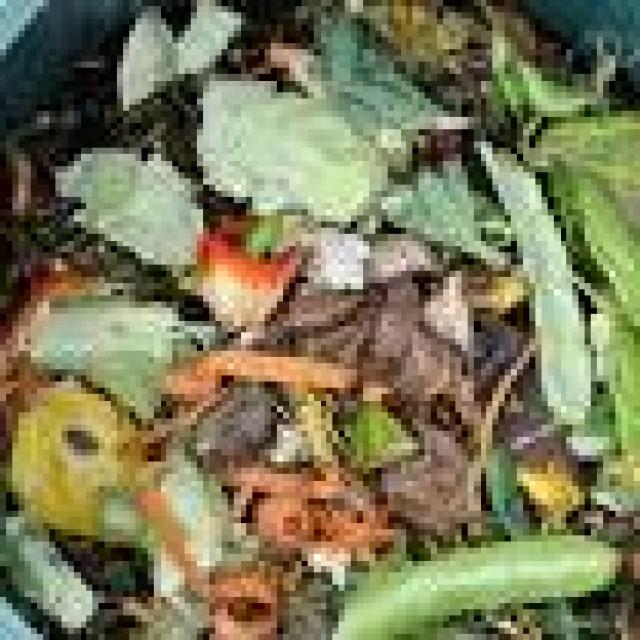food_waste: (93, 63, 586, 586)
